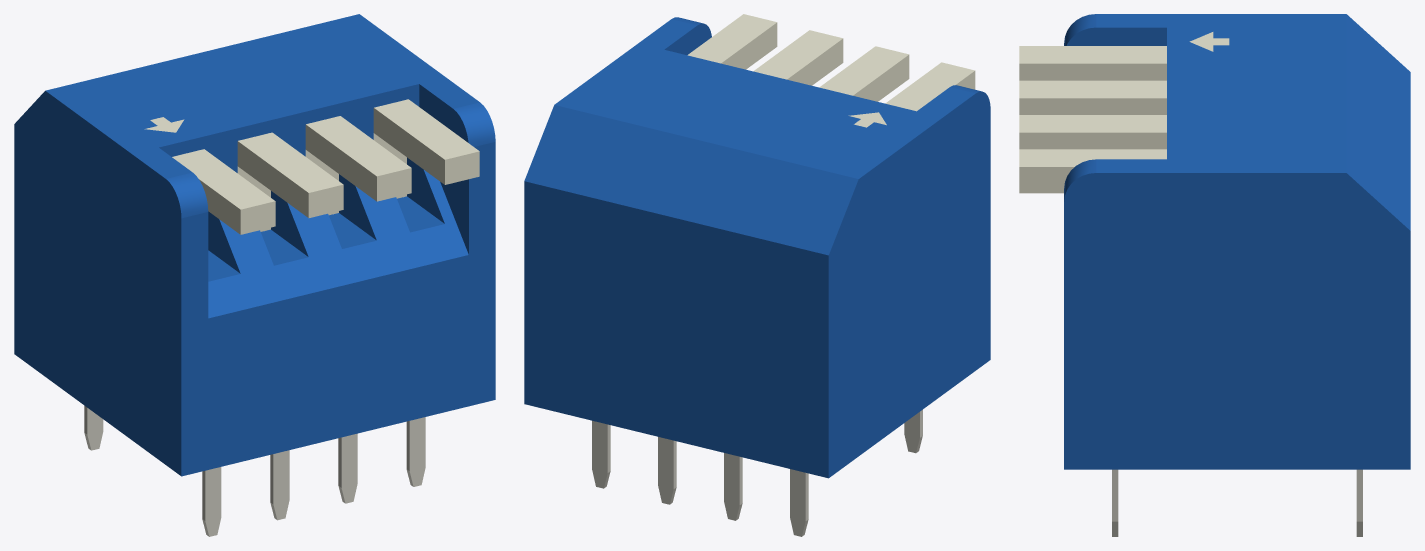
Rendered from kc-sw_dip_spstx04_piano_10.8x11.72mm_w7.62mm_p2.54mm.glb.
3 renders of one model, left to right at view 1: azimuth 30°, elevation 25°; view 2: azimuth 150°, elevation 25°; view 3: azimuth 270°, elevation 25°, orthographic. The views are drawn at different scales.
Parts seen in each view (by area): view 1: 0_0.16666666666666666_0.5_0, 0.75_0.75_0.6666666666666666_0, 0.6666666666666666_0.6666666666666666_0.5833333333333334_0.8; view 2: 0_0.16666666666666666_0.5_0, 0.75_0.75_0.6666666666666666_0, 0.6666666666666666_0.6666666666666666_0.5833333333333334_0.8; view 3: 0_0.16666666666666666_0.5_0, 0.75_0.75_0.6666666666666666_0, 0.6666666666666666_0.6666666666666666_0.5833333333333334_0.8.
Part boxes in pixels (left/top/right/bottom): 0_0.16666666666666666_0.5_0: left=14, top=14, right=495, bottom=476; 0.75_0.75_0.6666666666666666_0: left=144, top=99, right=479, bottom=234; 0.6666666666666666_0.6666666666666666_0.5833333333333334_0.8: left=84, top=405, right=425, bottom=536; 0_0.16666666666666666_0.5_0: left=524, top=17, right=990, bottom=478; 0.75_0.75_0.6666666666666666_0: left=687, top=14, right=975, bottom=127; 0.6666666666666666_0.6666666666666666_0.5833333333333334_0.8: left=592, top=409, right=922, bottom=536; 0_0.16666666666666666_0.5_0: left=1064, top=14, right=1410, bottom=469; 0.75_0.75_0.6666666666666666_0: left=1019, top=32, right=1229, bottom=193; 0.6666666666666666_0.6666666666666666_0.5833333333333334_0.8: left=1112, top=469, right=1362, bottom=536.
Size of the model in its own units: 1.17 by 1.34 by 1.22.
